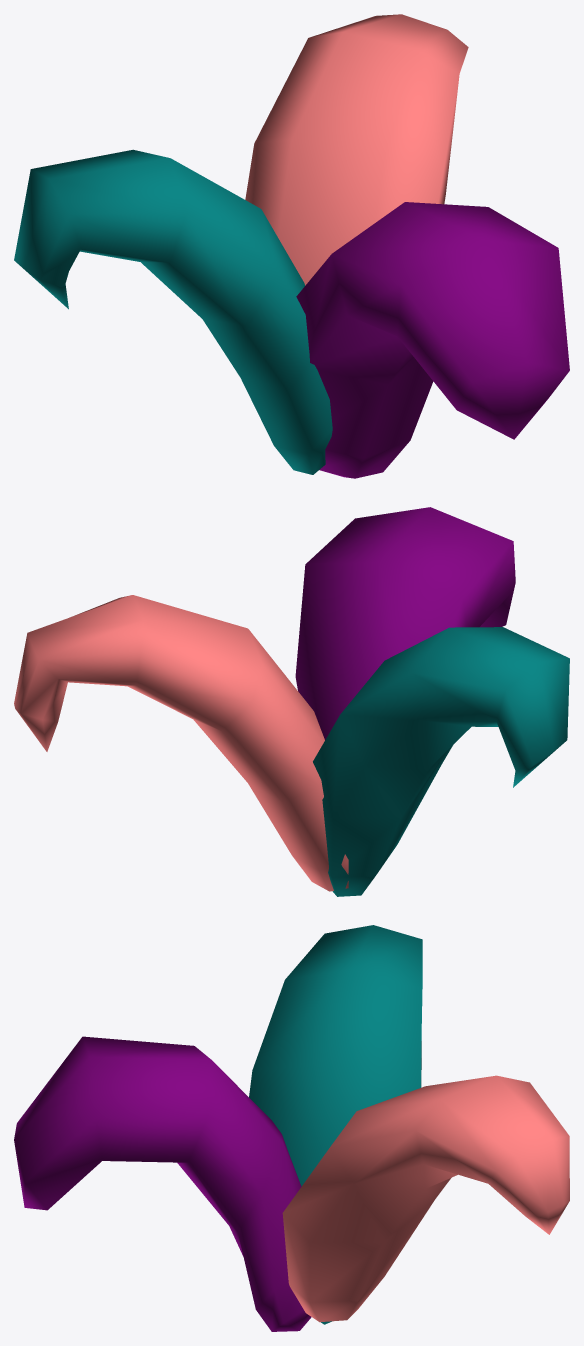
Rendered from Grass01.1.fbx.
3 renders of one model, top to bottom at view 1: azimuth 30°, elevation 25°; view 2: azimuth 150°, elevation 25°; view 3: azimuth 270°, elevation 25°, orthographic. The views are drawn at different scales.
Visible parts, largest first — view 1: Low_Grass011; view 2: Low_Grass011; view 3: Low_Grass011.
Boxes of the visible parts, x1,y1,x2,y2 form: Low_Grass011: (14, 14, 569, 478); Low_Grass011: (14, 507, 569, 896); Low_Grass011: (14, 925, 569, 1331).
Size of the model in its own units: 472 by 301 by 498.
